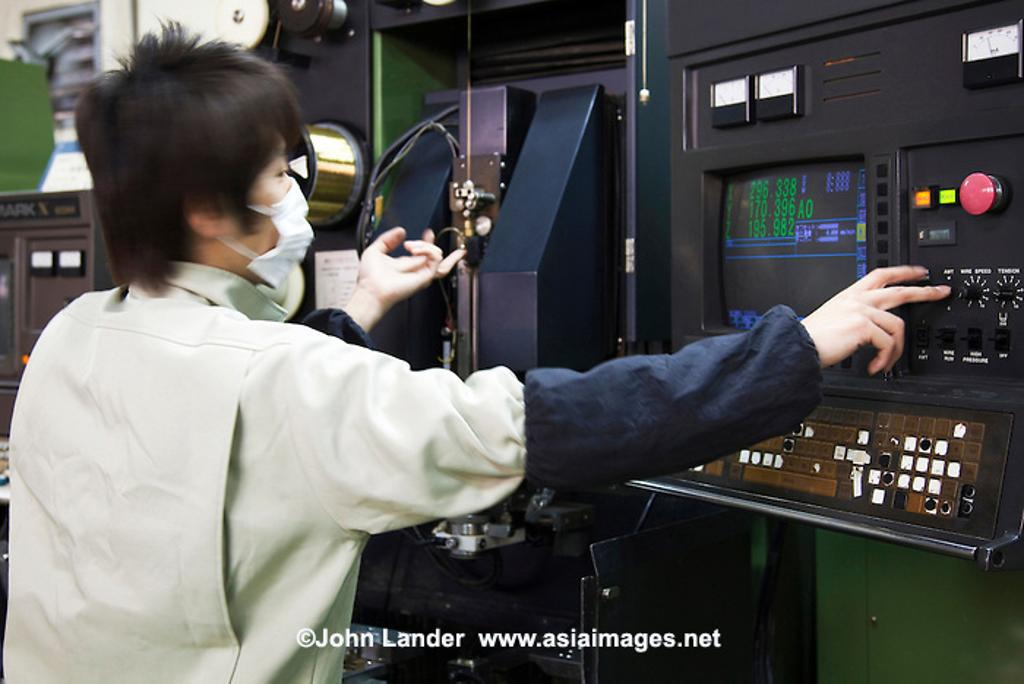face_mask: (166, 92, 310, 276)
